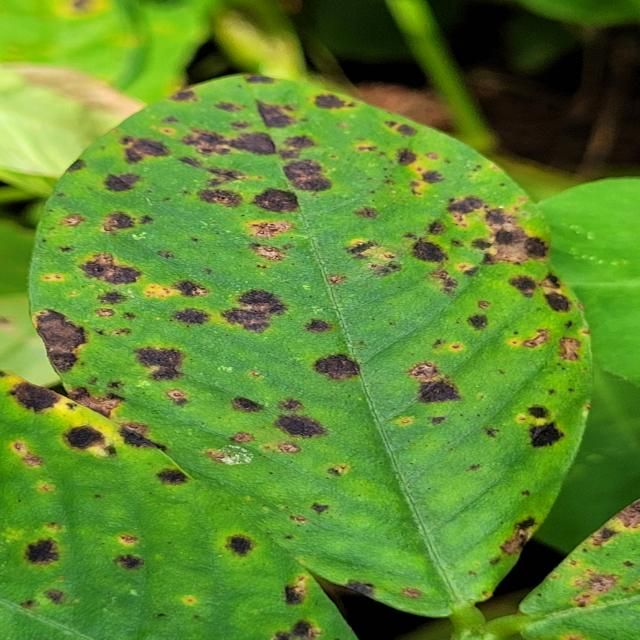Ground nut_tikka leaf spot: (34, 75, 590, 612), (1, 370, 362, 640)
